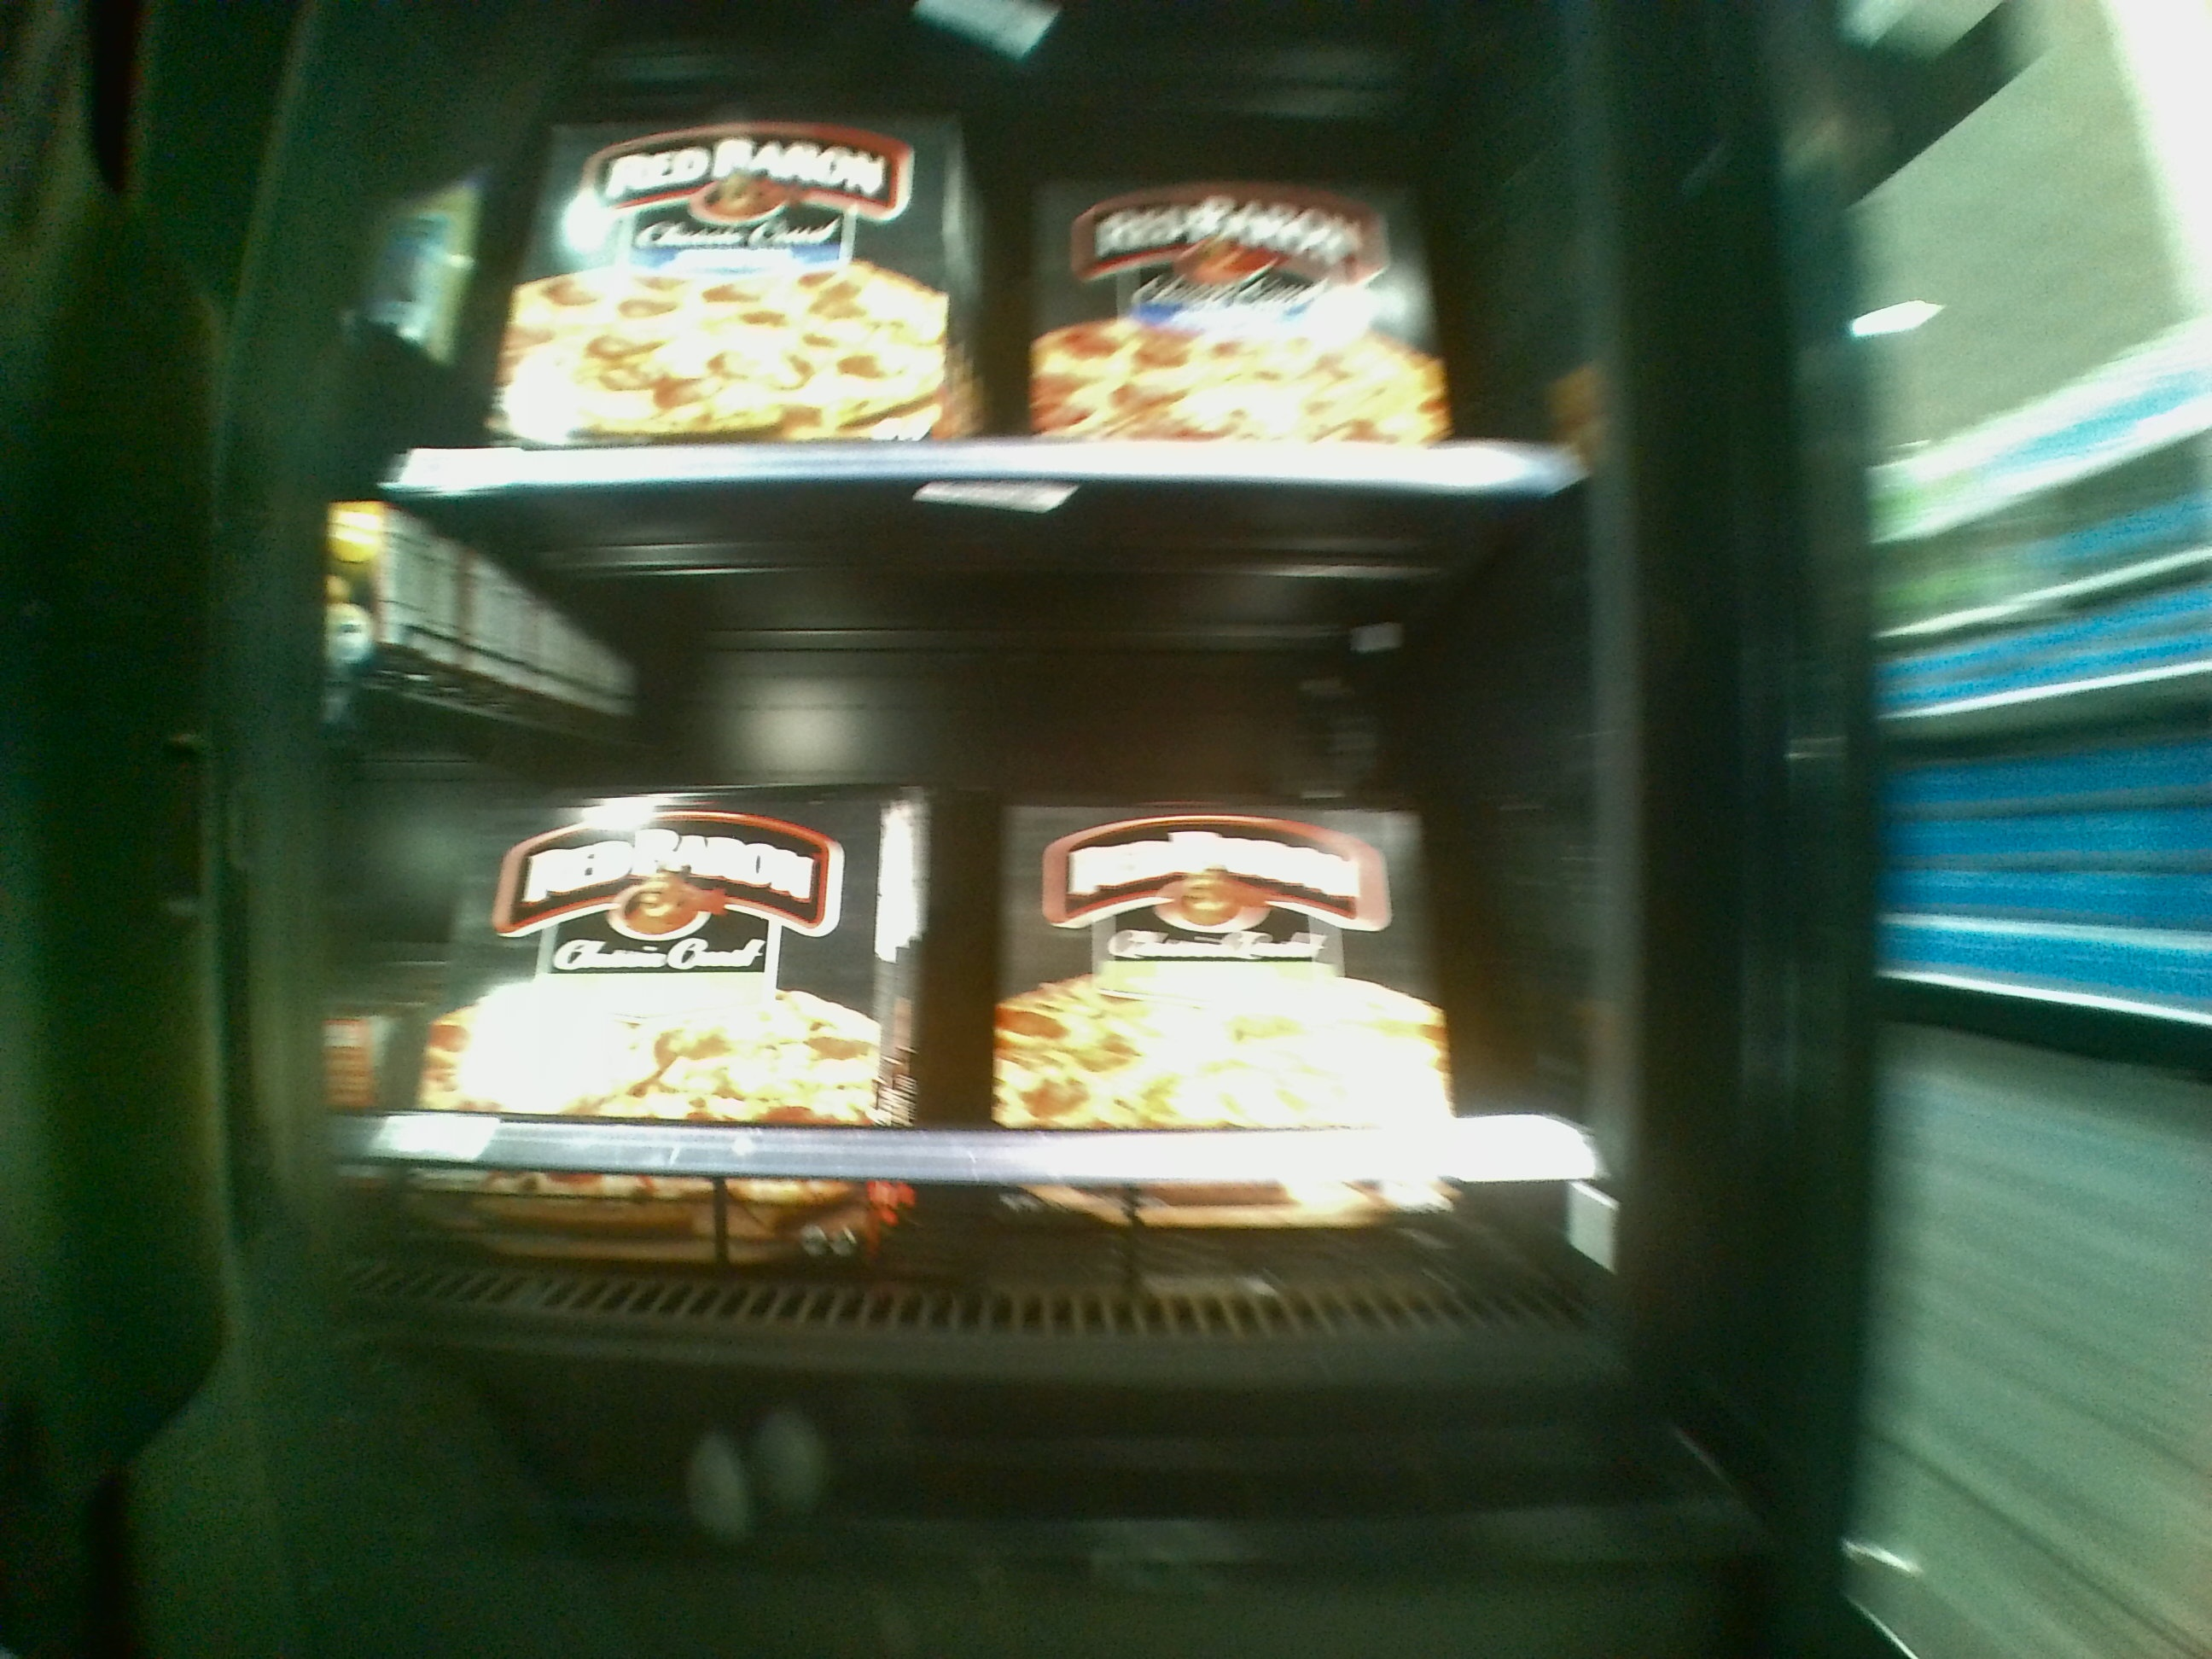shelf: (378, 505, 1587, 1312), (348, 16, 1588, 490)
